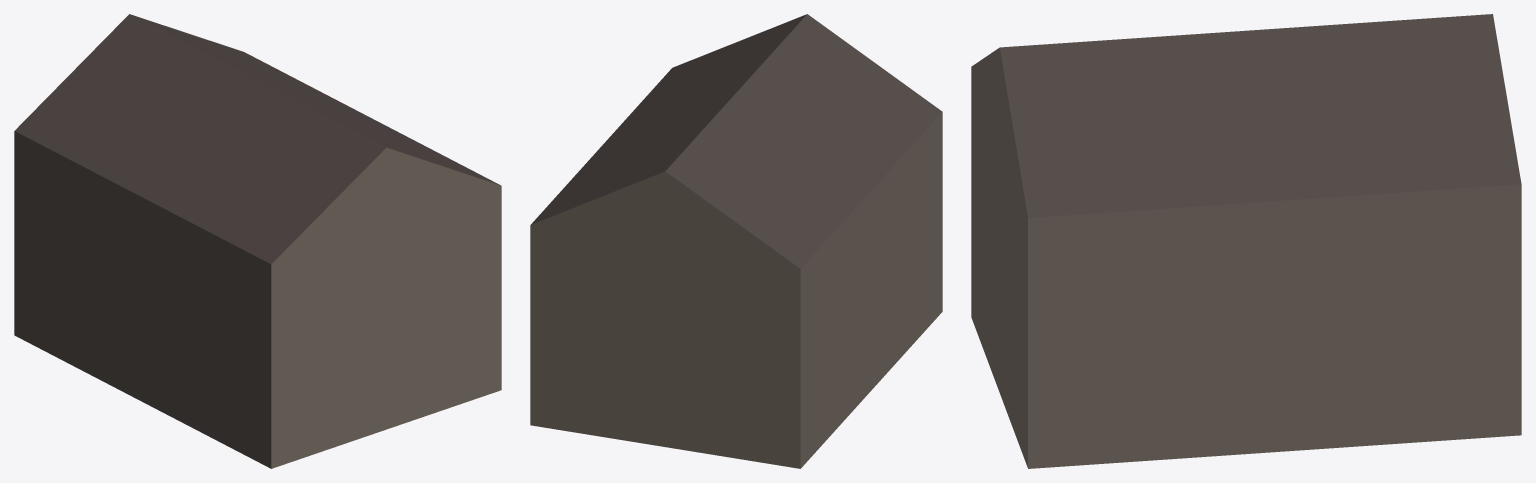
The picture shows the model from 3 angles, left to right: view 1: azimuth 30°, elevation 25°; view 2: azimuth 150°, elevation 25°; view 3: azimuth 270°, elevation 25°; orthographic projection. The views are drawn at different scales.
Parts seen in each view (by area): view 1: HP-w1200765303; view 2: HP-w1200765303; view 3: HP-w1200765303.
Boxes of the visible parts, box(x1,y1,x2,y2) form: HP-w1200765303: box(14, 14, 501, 468); HP-w1200765303: box(530, 14, 942, 468); HP-w1200765303: box(971, 14, 1521, 468).
Bounding box in the file's own units: 9.49 × 8.27 × 11.93.
